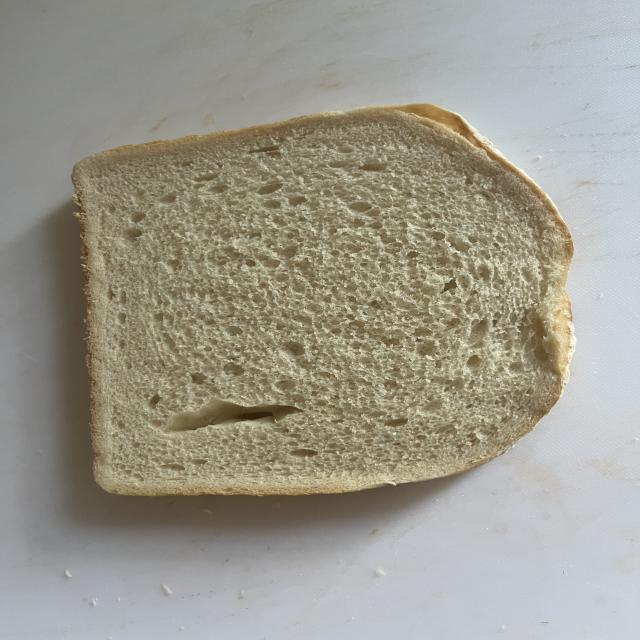sliced_bread: (77, 107, 574, 495)
